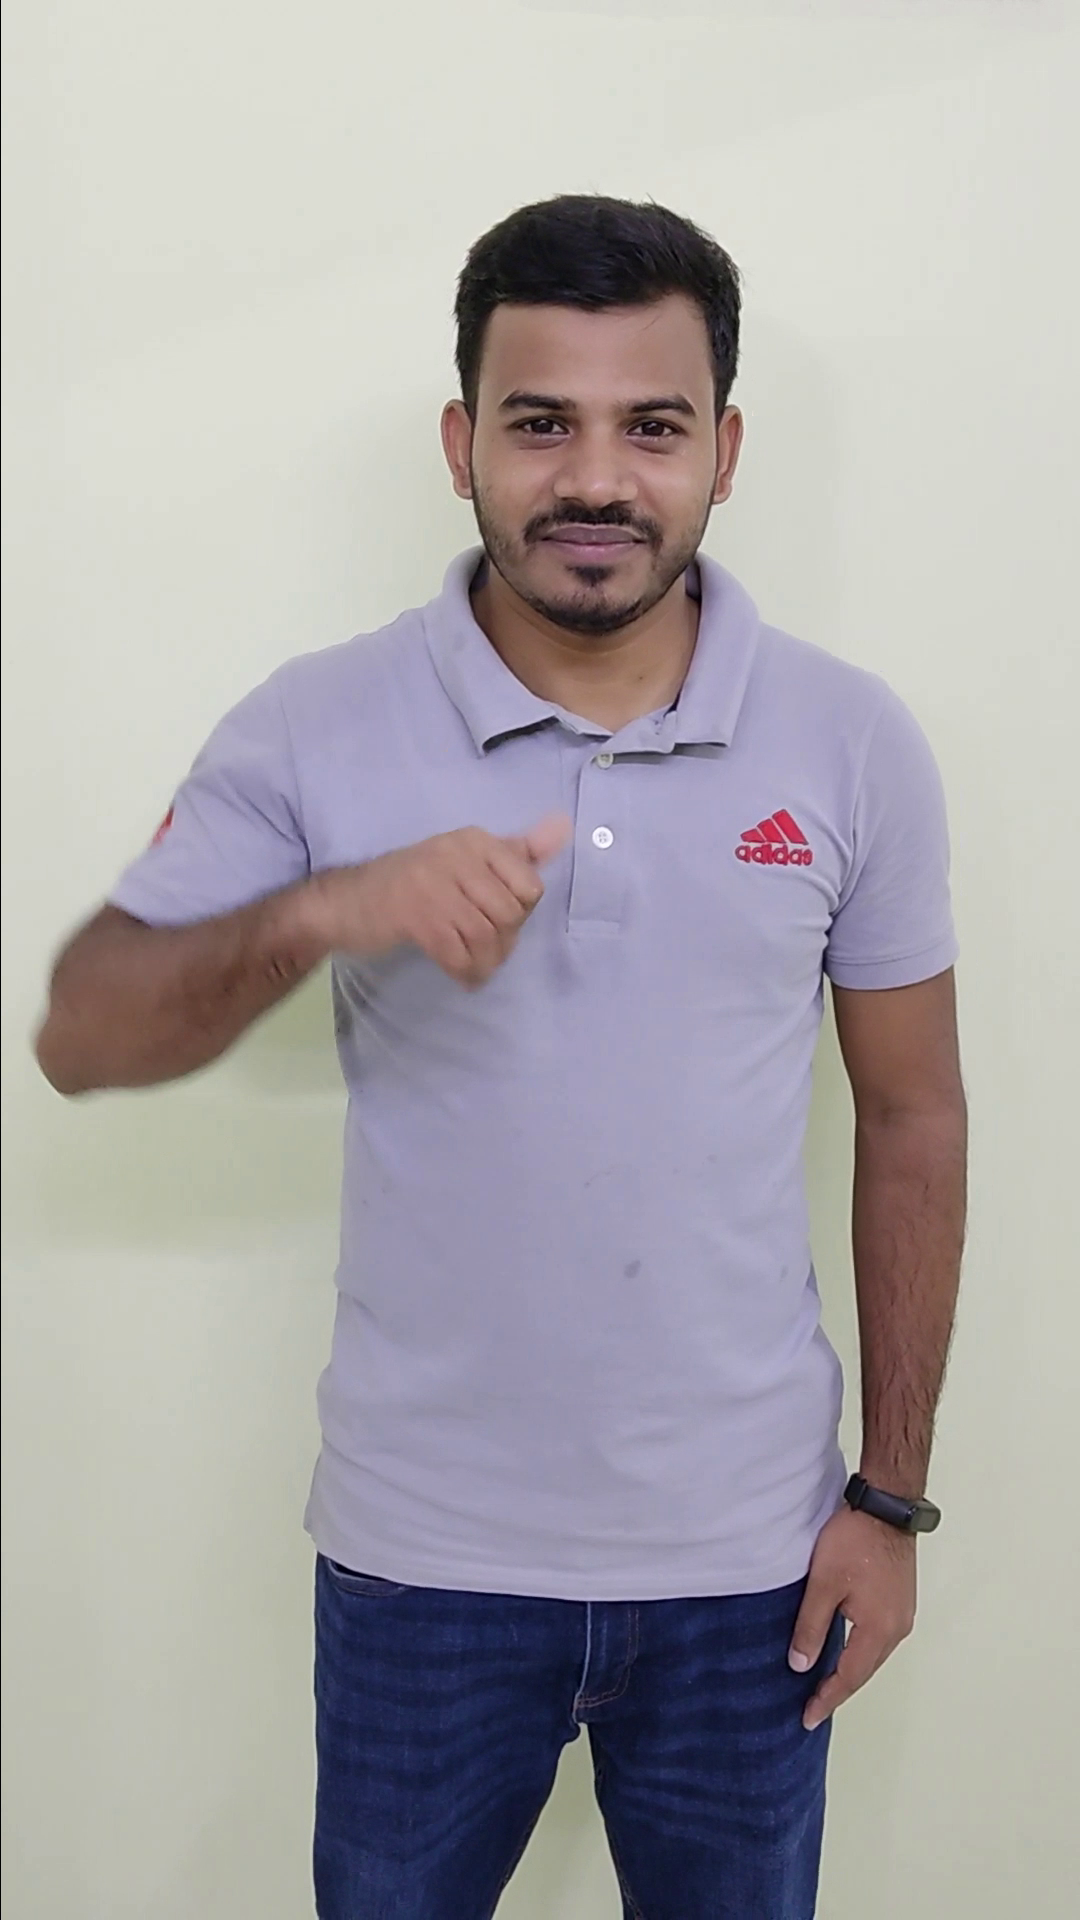Like: (334, 799, 599, 1002)
None: (773, 1457, 963, 1747)
